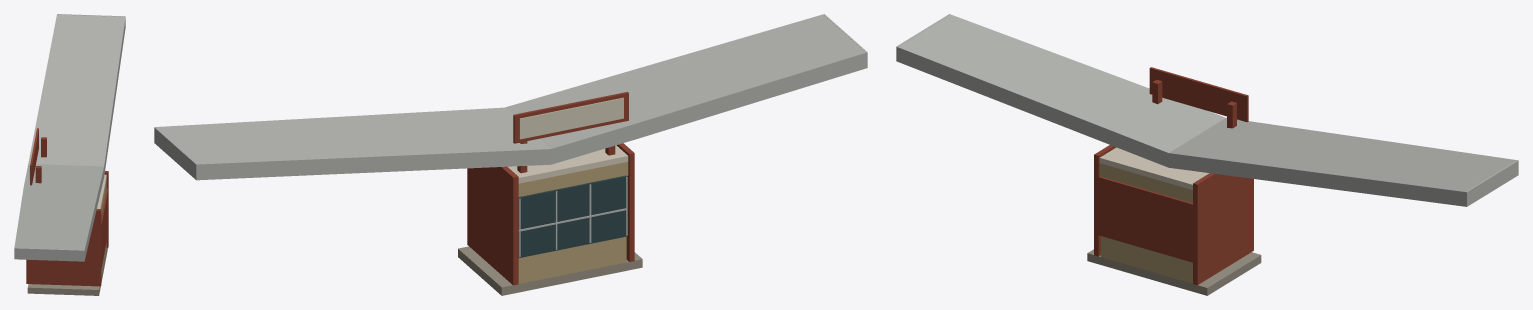
Rendered from main_gate_lod2.glb.
3 views of the same model, side by side, from view 1: azimuth 30°, elevation 25°; view 2: azimuth 150°, elevation 25°; view 3: azimuth 270°, elevation 25° (orthographic). The views are drawn at different scales.
Parts seen in each view (by area): view 1: Silver, Wine, Paving, Ivory, Ochre; view 2: Silver, Wine, GlassLobby, Ochre, Ivory, Paving; view 3: Silver, Wine, Ochre, Paving, Ivory.
Part boxes in pixels (x1,y1,x2,y2): Silver: (14,14,125,261); Wine: (26,128,108,286); Paving: (27,248,107,295); Ivory: (29,133,106,208); Ochre: (101,180,106,276); Silver: (154,14,867,257); Wine: (467,92,634,285); GlassLobby: (518,175,626,257); Ochre: (518,162,628,283); Ivory: (508,97,628,183); Paving: (458,246,642,295); Silver: (896,14,1518,206); Wine: (1094,67,1253,285); Ochre: (1099,163,1192,283); Paving: (1087,249,1261,295); Ivory: (1099,147,1209,189).
Size of the model in its own units: 15.1 by 6.33 by 20.01.
